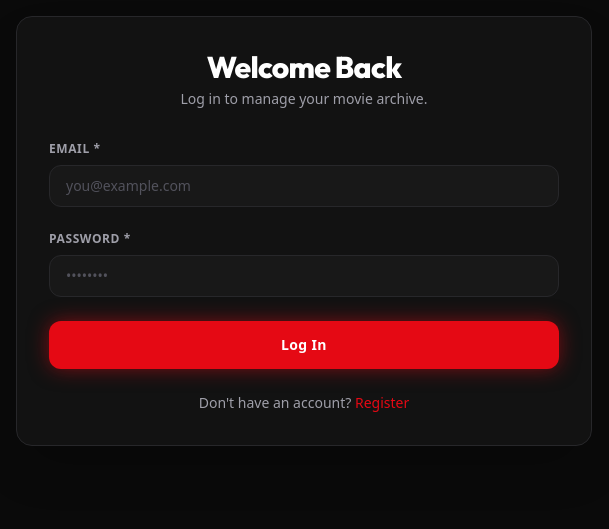
LoginForm › shows the error message when login fails and stays on the page
This screenshot has width=609, height=529.
Type "jane@example.com" into the field with placeholder "you@example.com" at (304, 186), box [49,165,559,207]
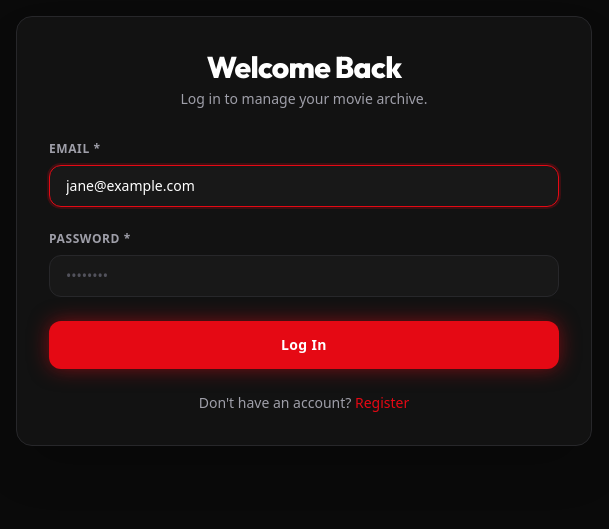
Type "secret123" into the password field with placeholder "••••••••" at (304, 276), box [49,255,559,297]
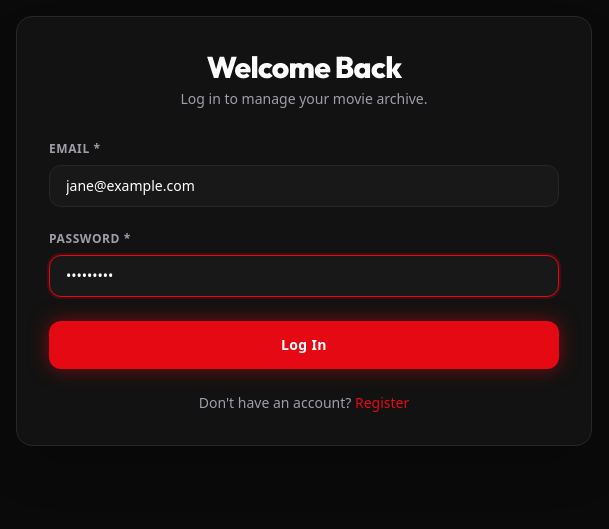
Click the button "Log In" at (304, 345), box [49,321,559,369]
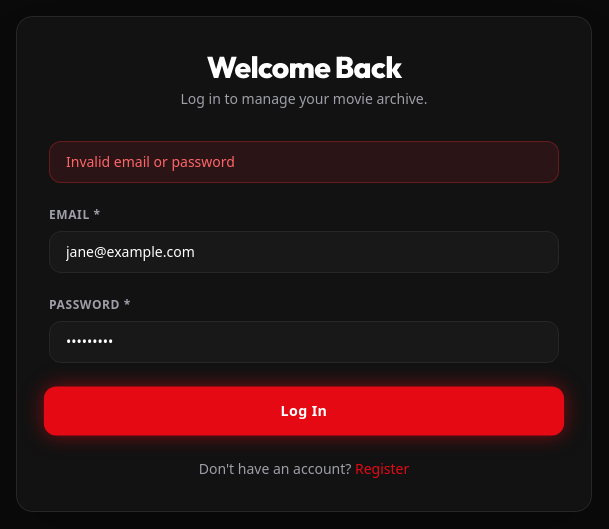
Expected: the button "Log In" is enabled, [44,386,564,436]
Expected: the text "Invalid email or password" is shown, [49,141,559,183]
